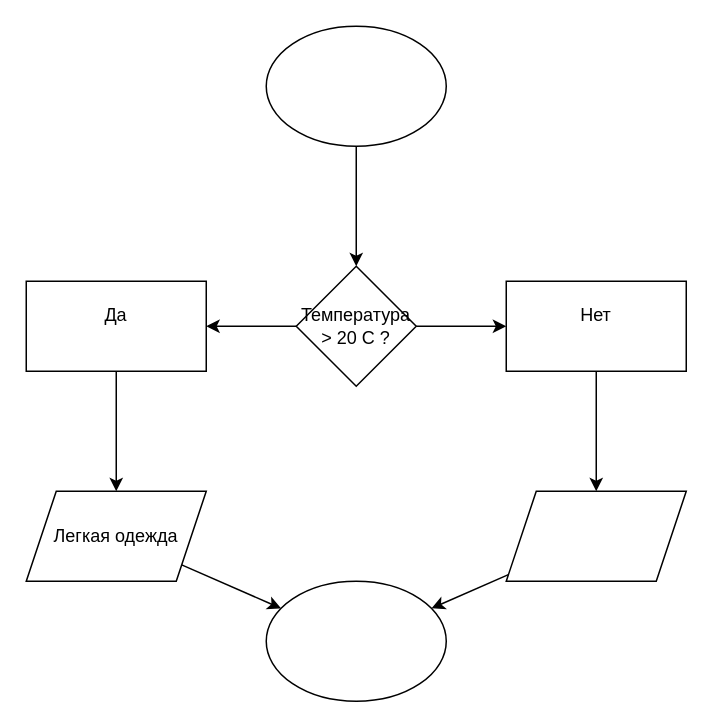
Image size: 713x728. Some labels were removed from this diagram. Here are the shapes that lost their labels. From the top down, the centre of each, then its label:
At point 355,85: "Начало".
At point 595,535: "Теплая одежда".
